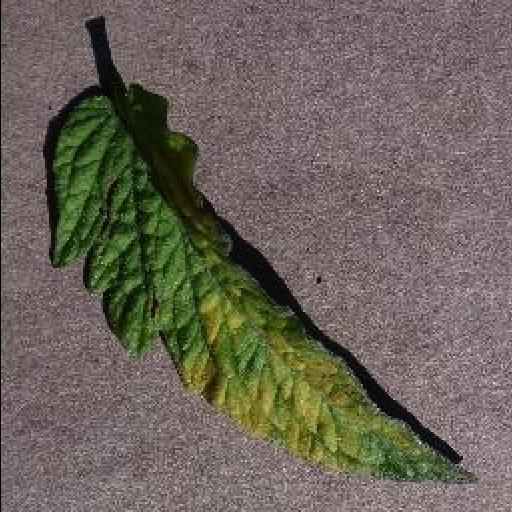disease_tomato: (45, 83, 483, 487)
